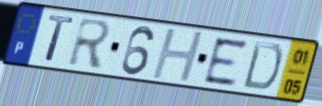6: (120, 24, 156, 77)
D: (240, 39, 285, 93)
E: (202, 35, 250, 87)
H: (149, 27, 207, 84)
R: (65, 16, 115, 71)
T: (43, 13, 77, 65)
